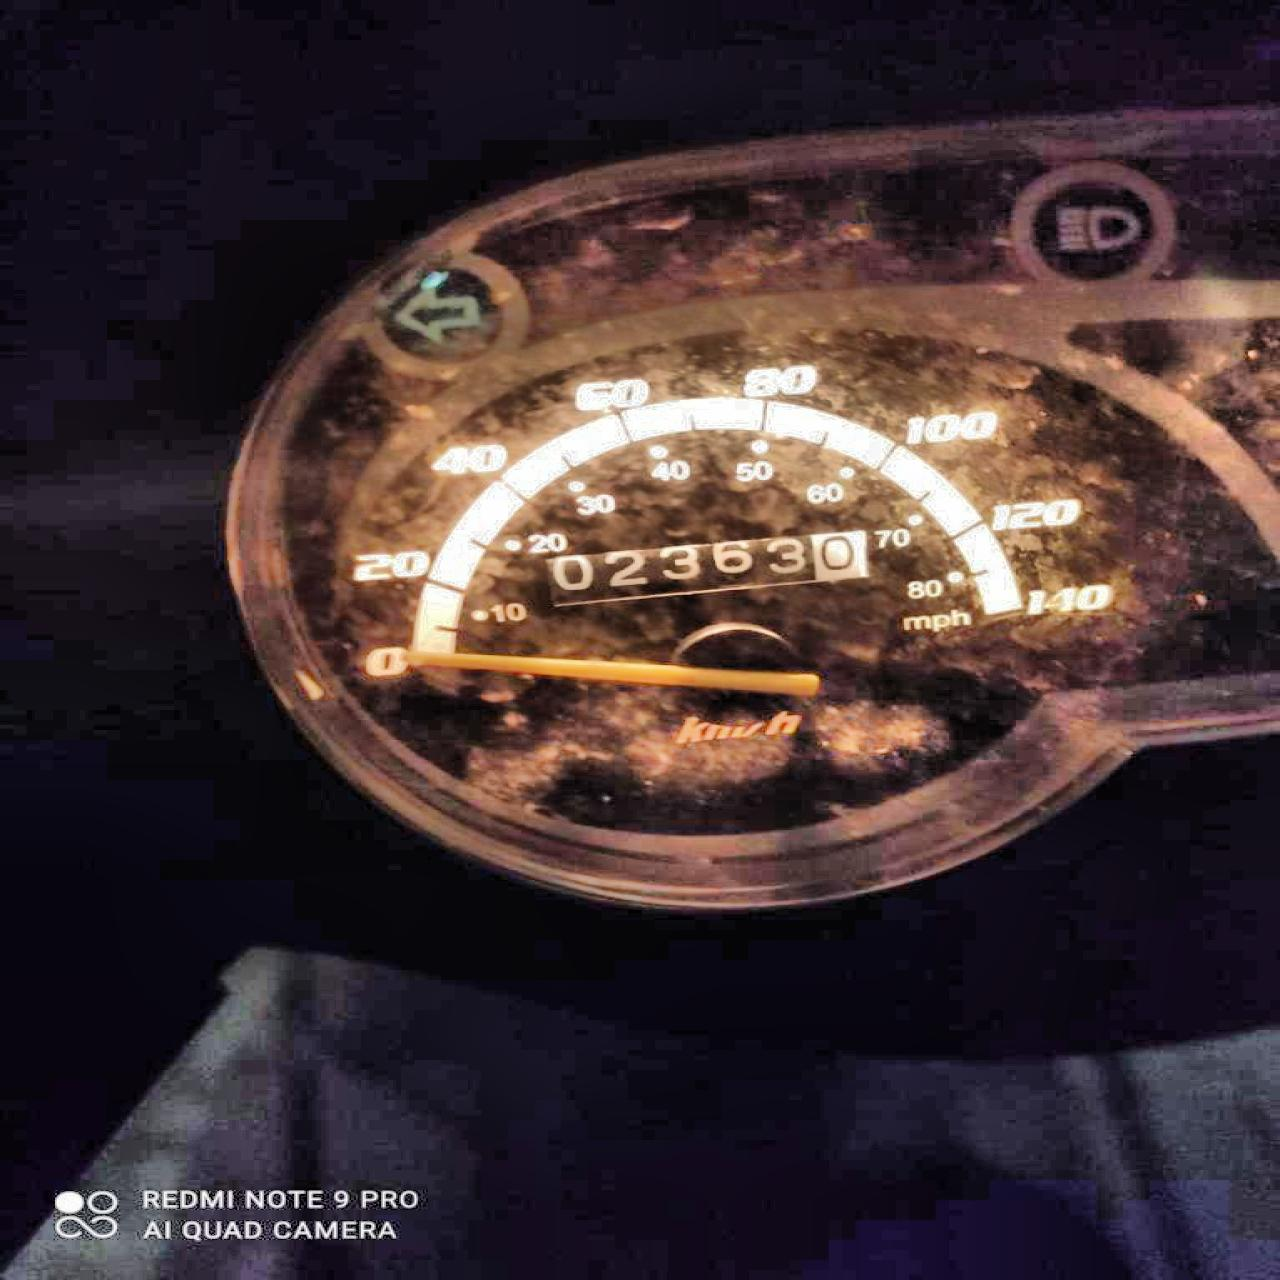0: (550, 552, 592, 590), (819, 533, 855, 568), (545, 531, 566, 550)
2: (601, 549, 647, 586)
3: (656, 544, 699, 579), (763, 537, 803, 572)
6: (708, 538, 750, 572)
odometer: (540, 526, 869, 606)
